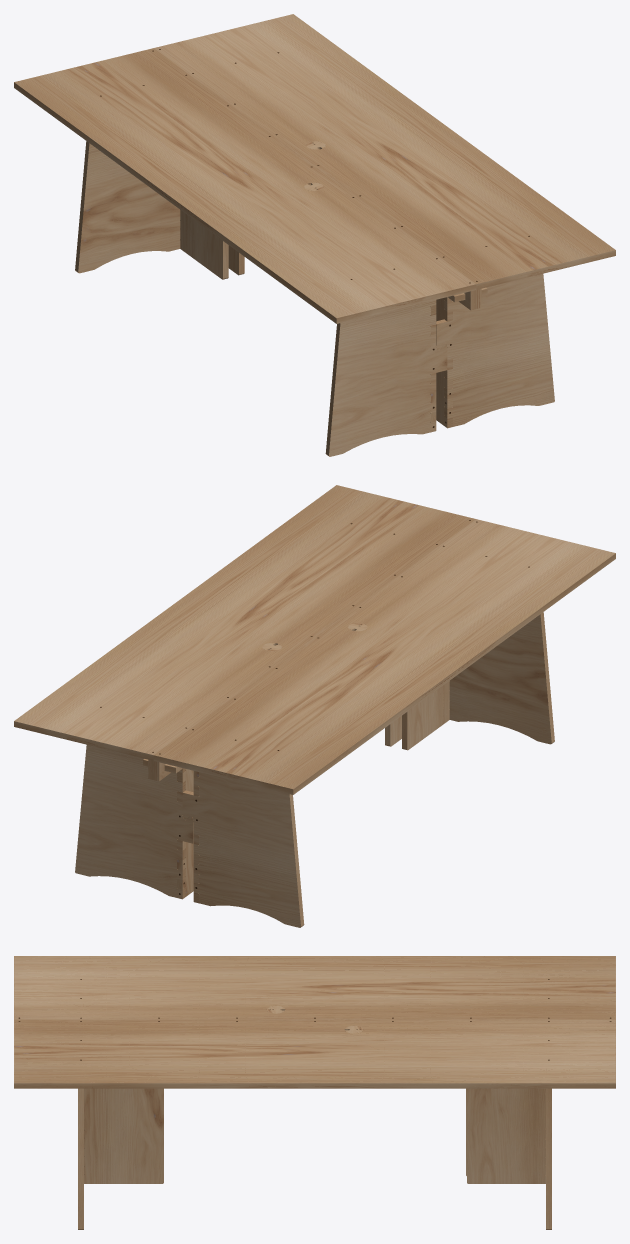
Rendered from slide.glb.
The picture shows the model from 3 angles, top to bottom: view 1: azimuth 30°, elevation 25°; view 2: azimuth 150°, elevation 25°; view 3: azimuth 270°, elevation 25°; orthographic projection. The views are drawn at different scales.
Parts seen in each view (by area): view 1: Empty, top, Empty.001, Layer 01; view 2: Empty, top, Empty.001, Layer 01; view 3: top, Empty, Layer 01.
Part boxes in pixels (bbox=[...]): Empty: bbox=[14, 48, 476, 323]; top: bbox=[154, 14, 615, 289]; Empty.001: bbox=[75, 141, 447, 456]; Layer 01: bbox=[228, 245, 554, 428]; Empty: bbox=[153, 519, 615, 794]; top: bbox=[14, 485, 475, 760]; Empty.001: bbox=[182, 612, 554, 927]; Layer 01: bbox=[75, 716, 401, 899]; top: bbox=[14, 1019, 615, 1088]; Empty: bbox=[14, 956, 615, 1019]; Layer 01: bbox=[78, 1088, 551, 1229].
Size of the model in its own units: 1.22 by 0.712 by 2.44.
Materials: 18 (17 with a texture image).
